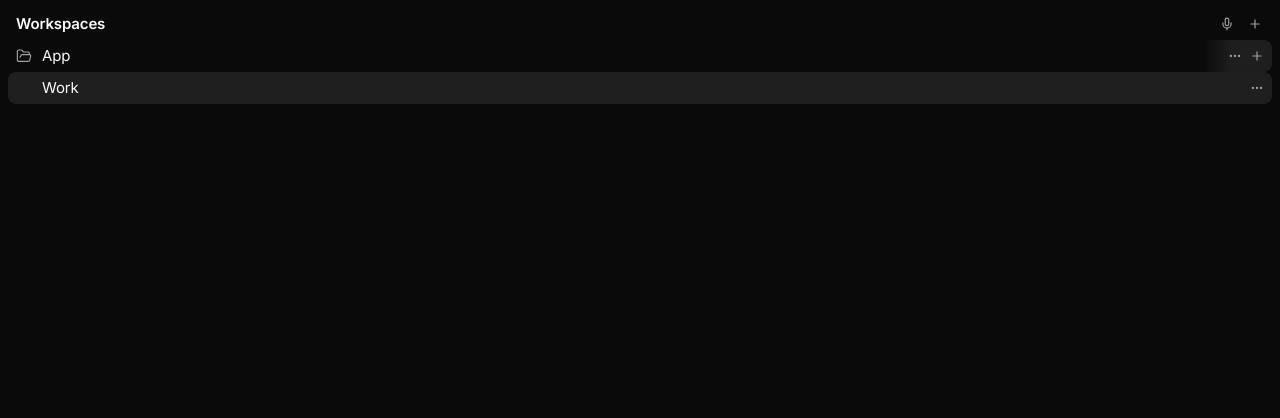
Test: opens a workspace menu on right-click with rename and remove
Right-click the element with test id "ide-workspace-row-p1-w1" at (640, 88), box [8,72,1272,104]
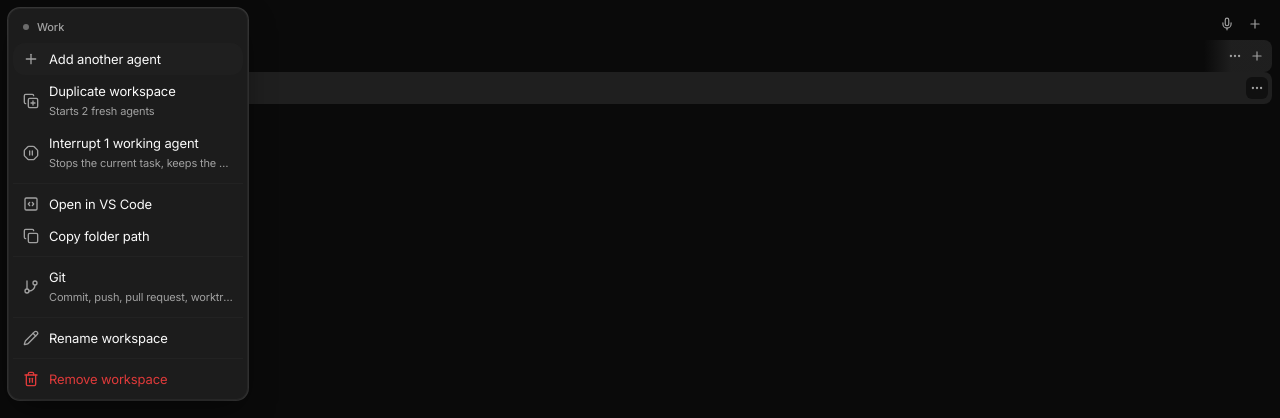
Expected: the menu with test id "ide-workspace-menu" is shown, [8,8,248,400]
Expected: the menu item with test id "ide-workspace-menu-rename" reads "Rename workspace", [13,322,243,354]
Expected: the menu item with test id "ide-workspace-menu-close" reads "Remove workspace", [13,363,243,395]
